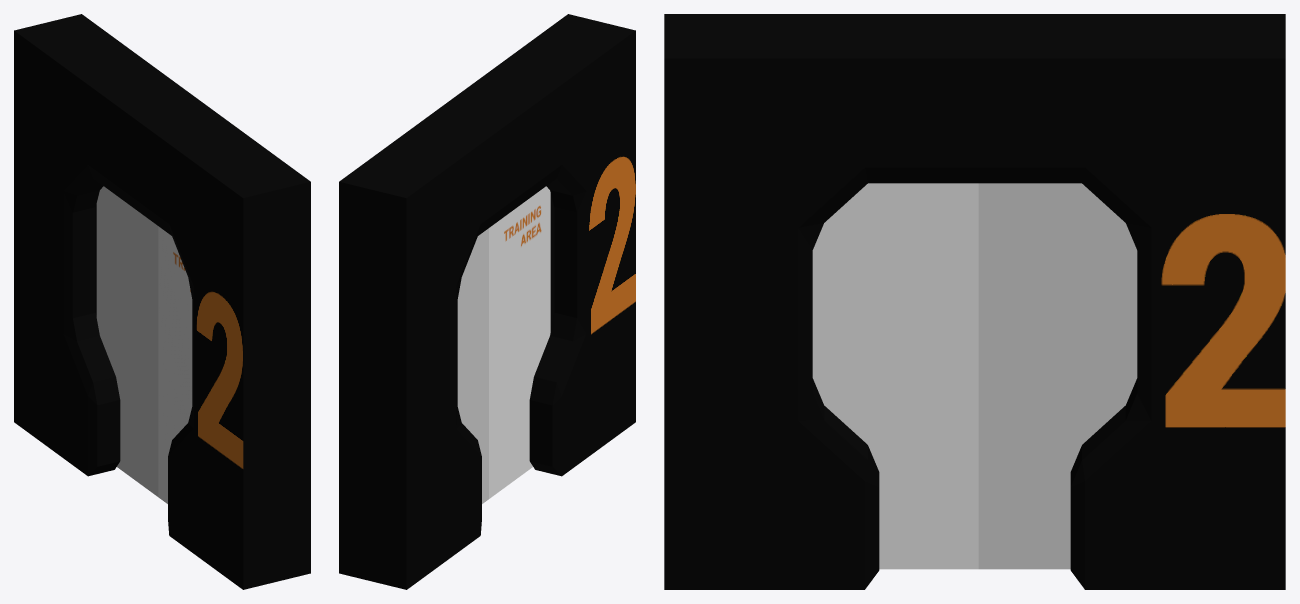
The model's file is SlidingDoor.fbx.
3 views of the same model, side by side, from view 1: azimuth 30°, elevation 25°; view 2: azimuth 150°, elevation 25°; view 3: azimuth 270°, elevation 25° (orthographic). The views are drawn at different scales.
Visible parts, largest first — view 1: Cube.001, Cube.002, Cube.003; view 2: Cube.001, Cube.003, Cube.002; view 3: Cube.001, Cube.003, Cube.002.
Part boxes in pixels (x1,y1,x2,y2): Cube.001: (14, 14, 310, 589); Cube.002: (96, 186, 158, 496); Cube.003: (158, 226, 192, 503); Cube.001: (339, 14, 635, 589); Cube.003: (489, 186, 550, 498); Cube.002: (457, 228, 488, 503); Cube.001: (664, 14, 1285, 589); Cube.003: (812, 183, 978, 569); Cube.002: (978, 183, 1137, 569).
Size of the model in its own units: 54.29 by 300 by 318.
